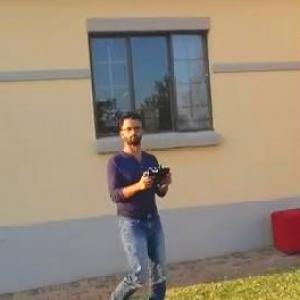follow: (97, 107, 180, 299)
